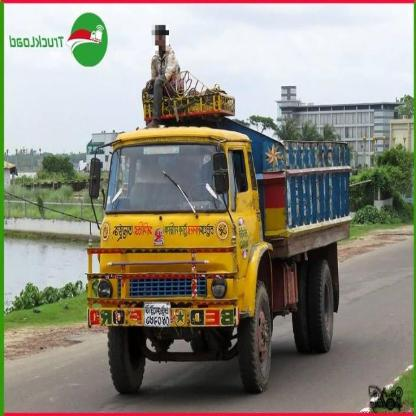truck: (93, 105, 349, 391)
